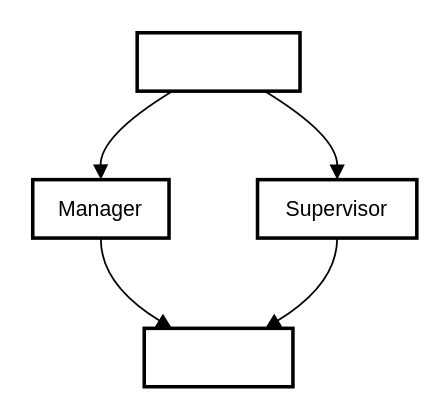
Some shapes in this 448 by 418 pixel diagram are drawn without their labels. The shapes that lost their labels are listed below. From the top down, each one's centre as x and y in pixels, then its label:
At (218,61): "Main actor".
At (218,357): "Employee".
